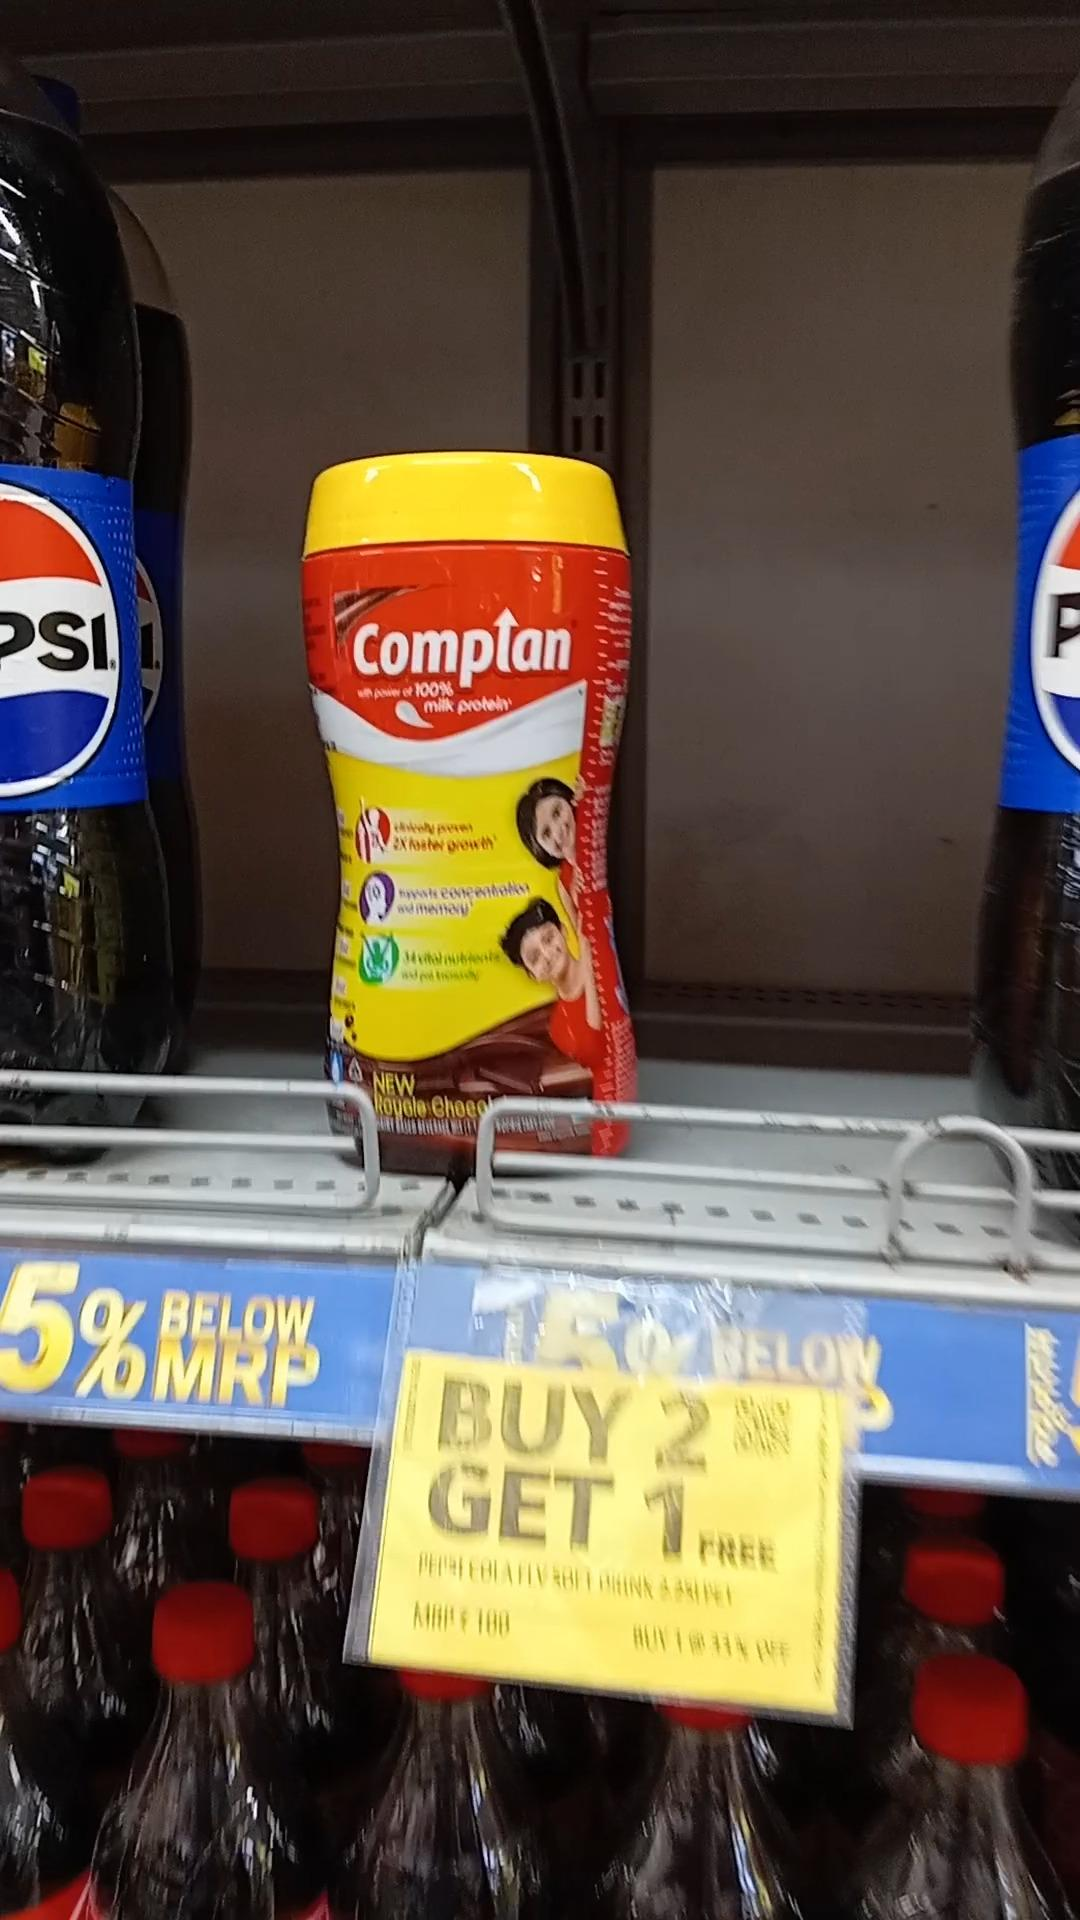COMPLAN_CHOCOLATE_500_GMS_JAR: (295, 455, 637, 1176)
